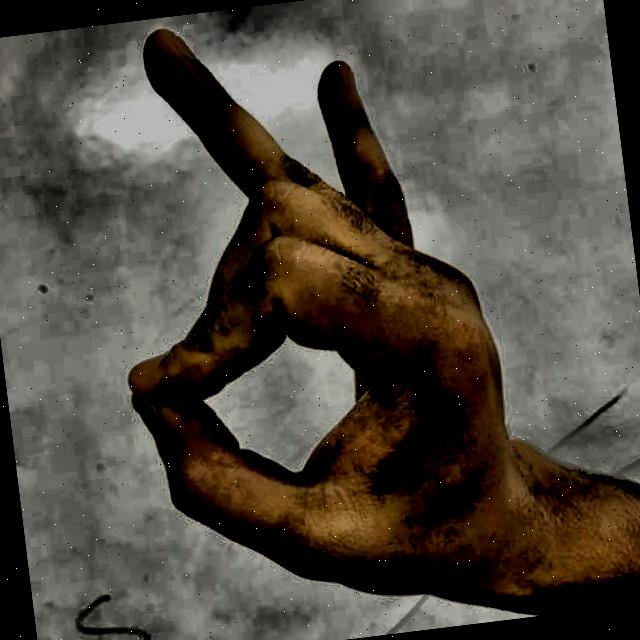Na: (47, 0, 553, 640)
